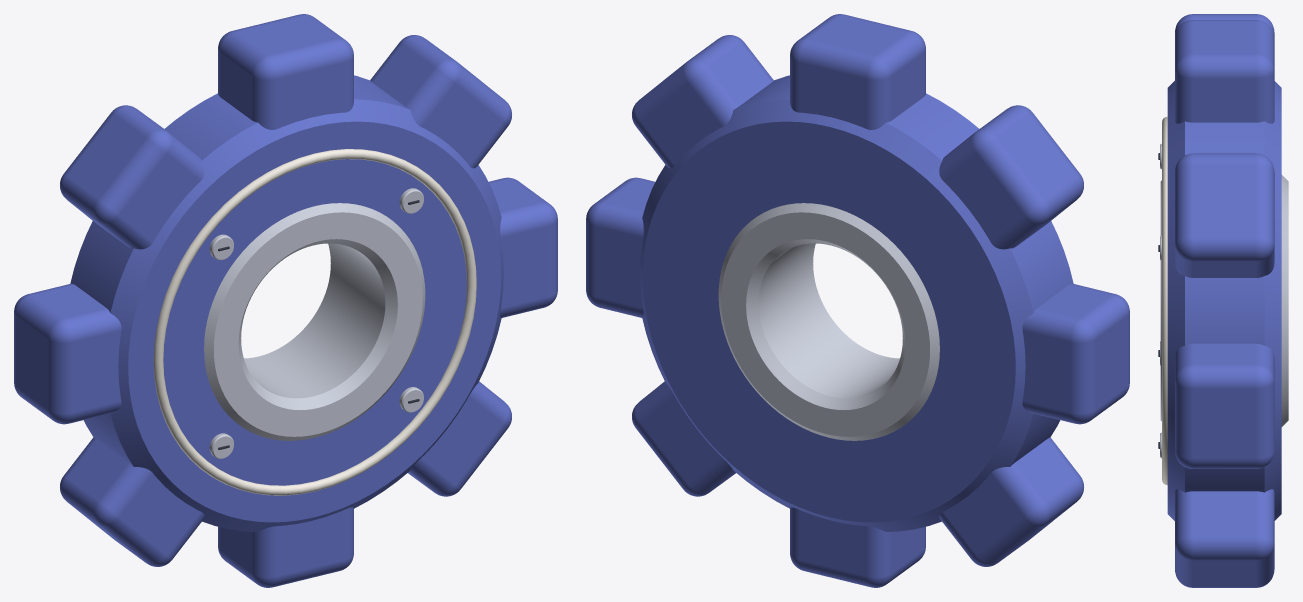
Rendered from gear.glb.
3 views of the same model, side by side, from view 1: azimuth 30°, elevation 25°; view 2: azimuth 150°, elevation 25°; view 3: azimuth 270°, elevation 25° (orthographic).
Visible parts, largest first — view 1: gear; view 2: gear; view 3: gear.
Part boxes in pixels (bbox=[...]): gear: bbox=[14, 14, 557, 587]; gear: bbox=[586, 14, 1129, 587]; gear: bbox=[1158, 14, 1288, 587].
Size of the model in its own units: 2.04 by 2.04 by 0.4585.
